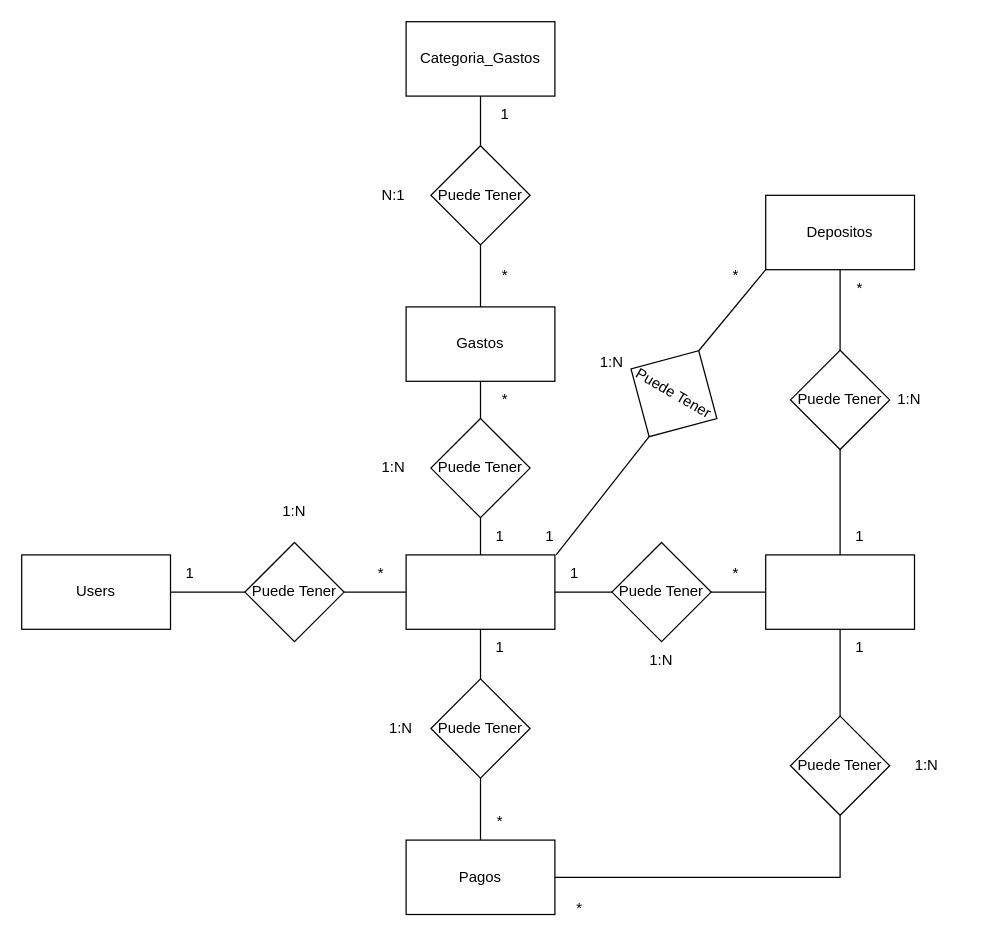
This 986x949 diagram has some shape labels left out. Here are the shapes that lost their labels. From the top down, the centre of each, then its label:
At point 480,591: "Propiedades".
At point 839,591: "Inquilinos".
